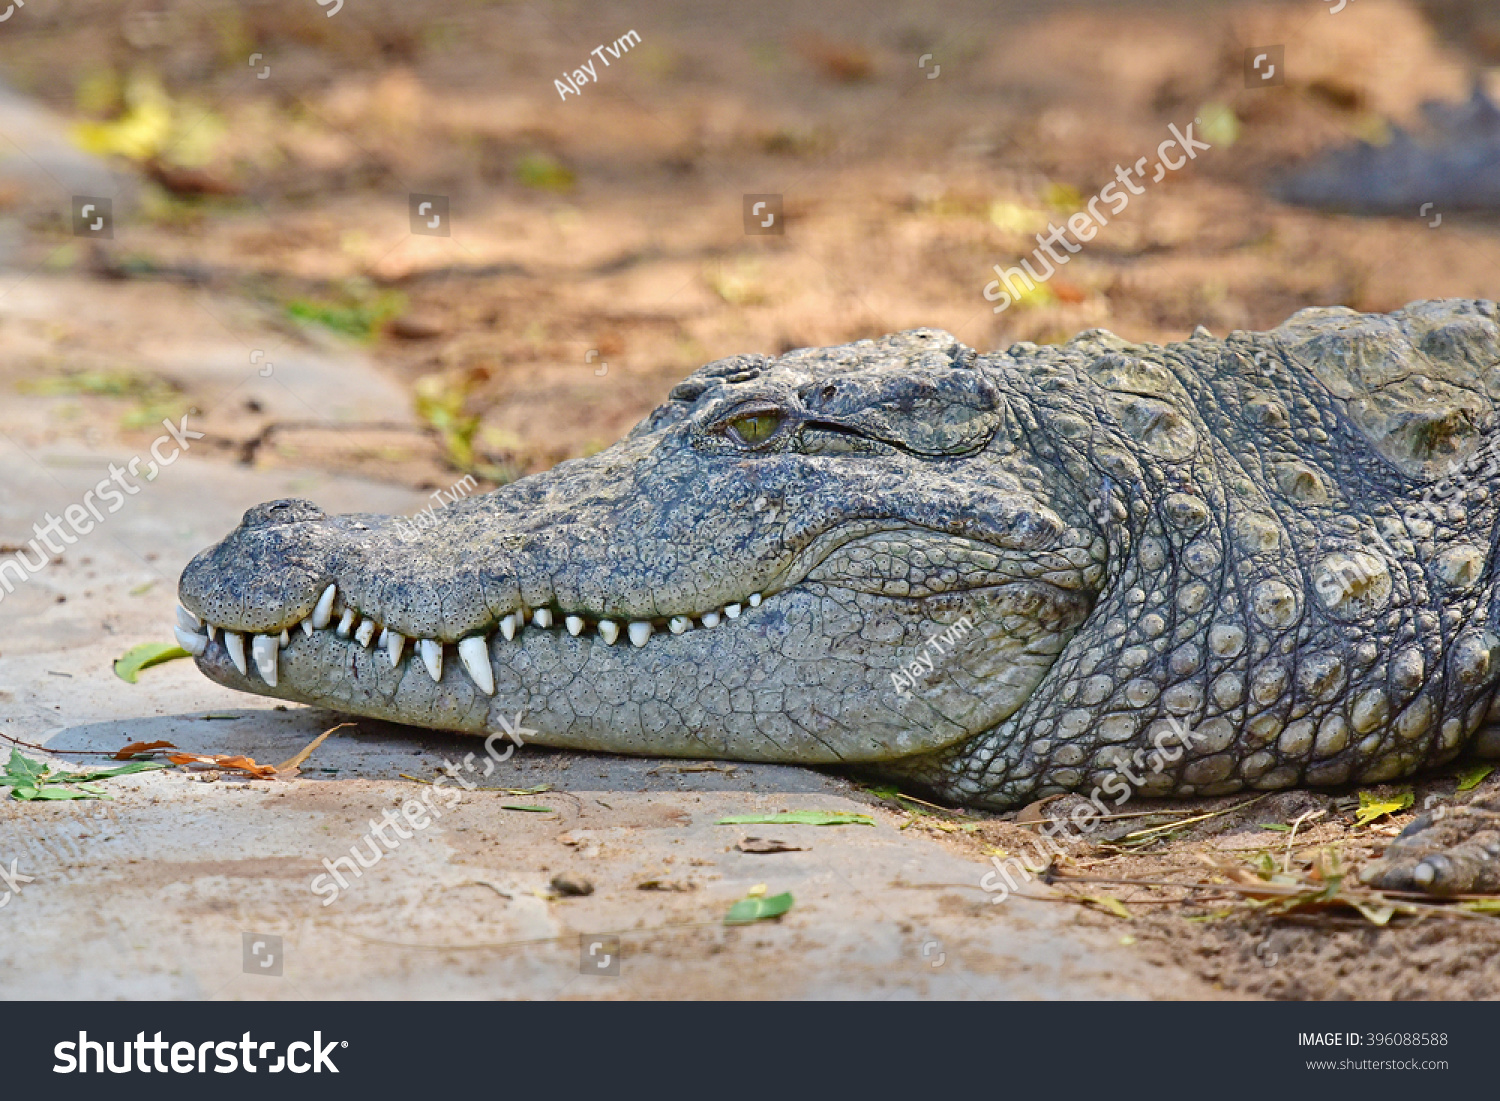Crocodile: (183, 287, 1500, 793)
